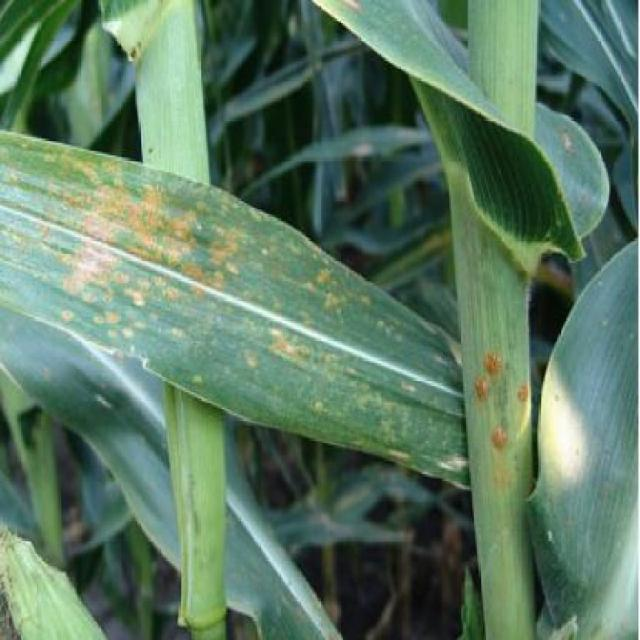Corn_Rust: (0, 110, 420, 482), (460, 302, 554, 488)
